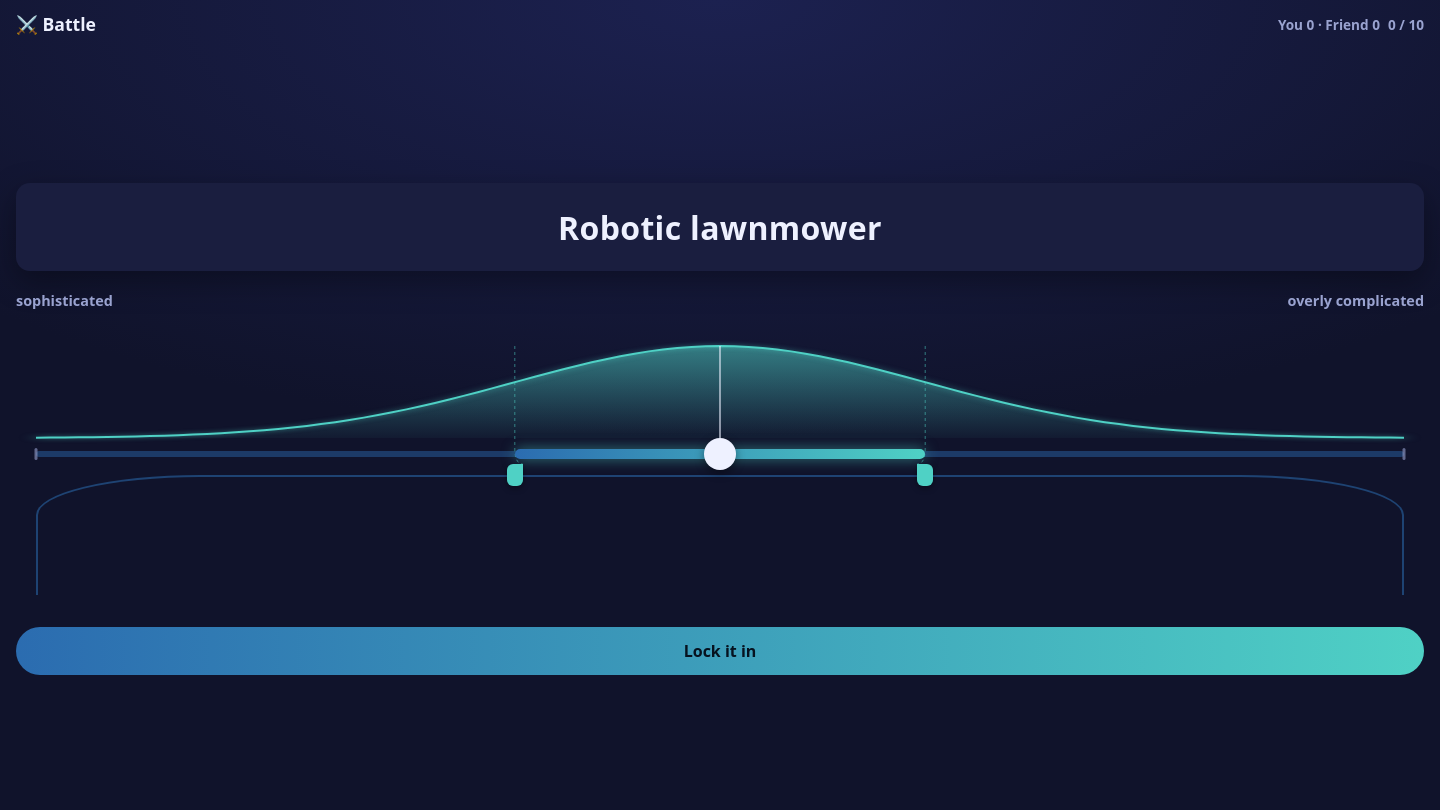
it: PvpScreen › answers a round and reports that you got there first
Expected: the heading "Robotic lawnmower" is shown, [558,206,882,249]
Click the button "Lock it in" at (720, 651), box [16,627,1424,675]
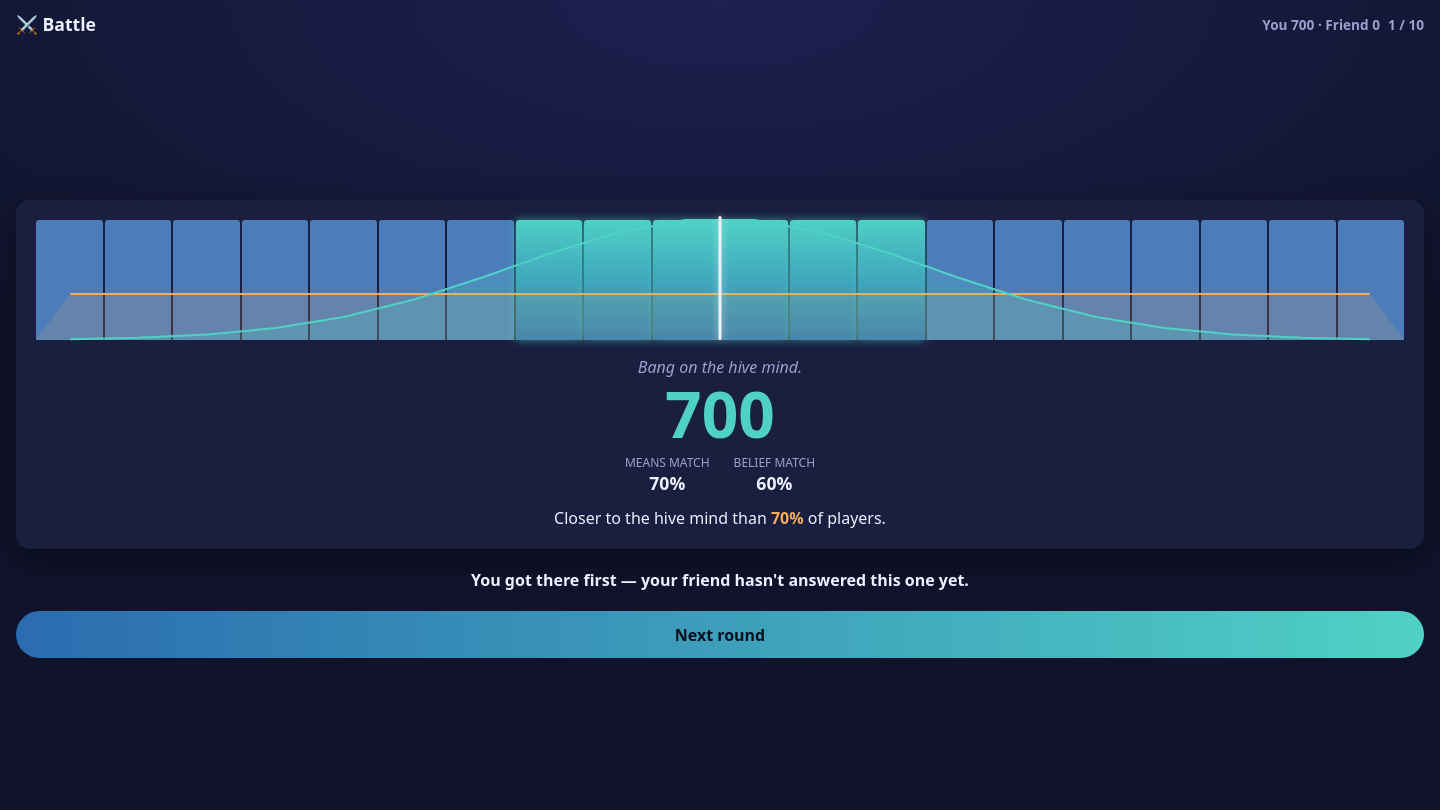
Expected: the text "You got there first — your friend hasn't answered this one yet." is shown, [471,569,969,591]
